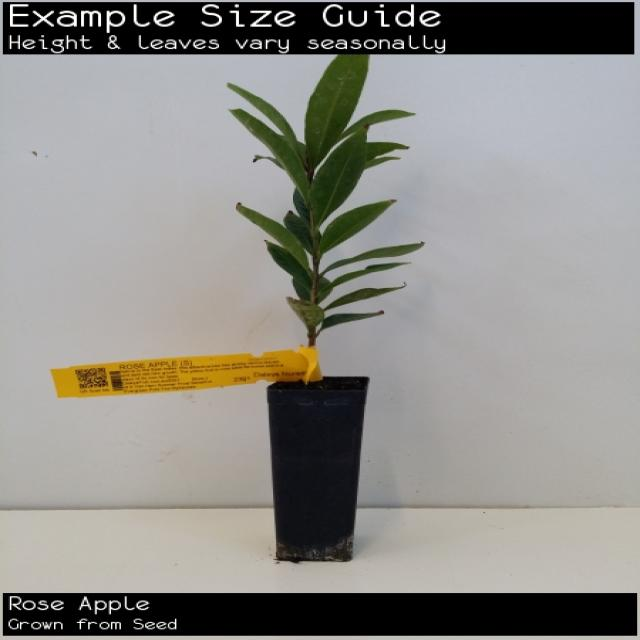Medicinal-Rose Apple: (167, 54, 465, 360)
